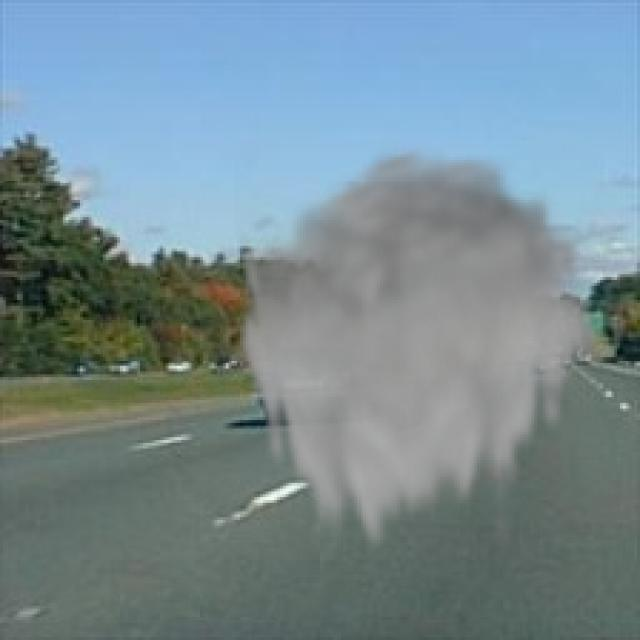Smoke: (234, 140, 603, 566)
